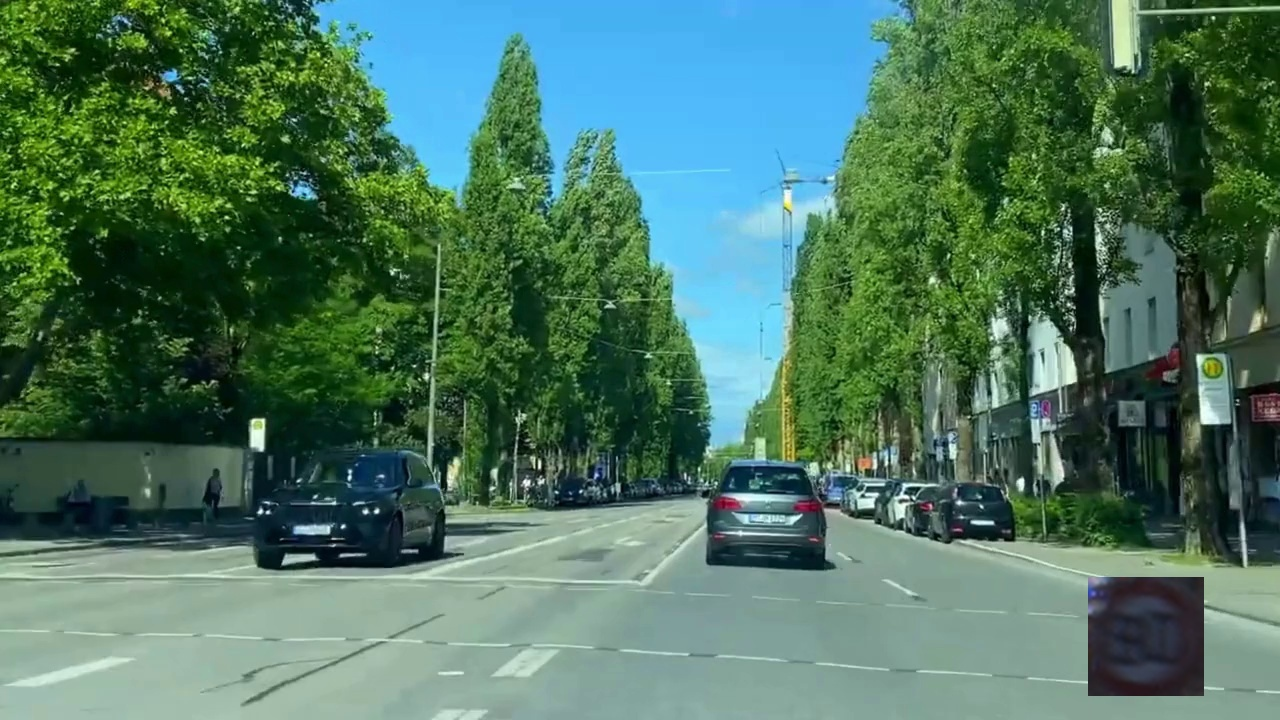Speed 80: (1088, 577, 1204, 696)
